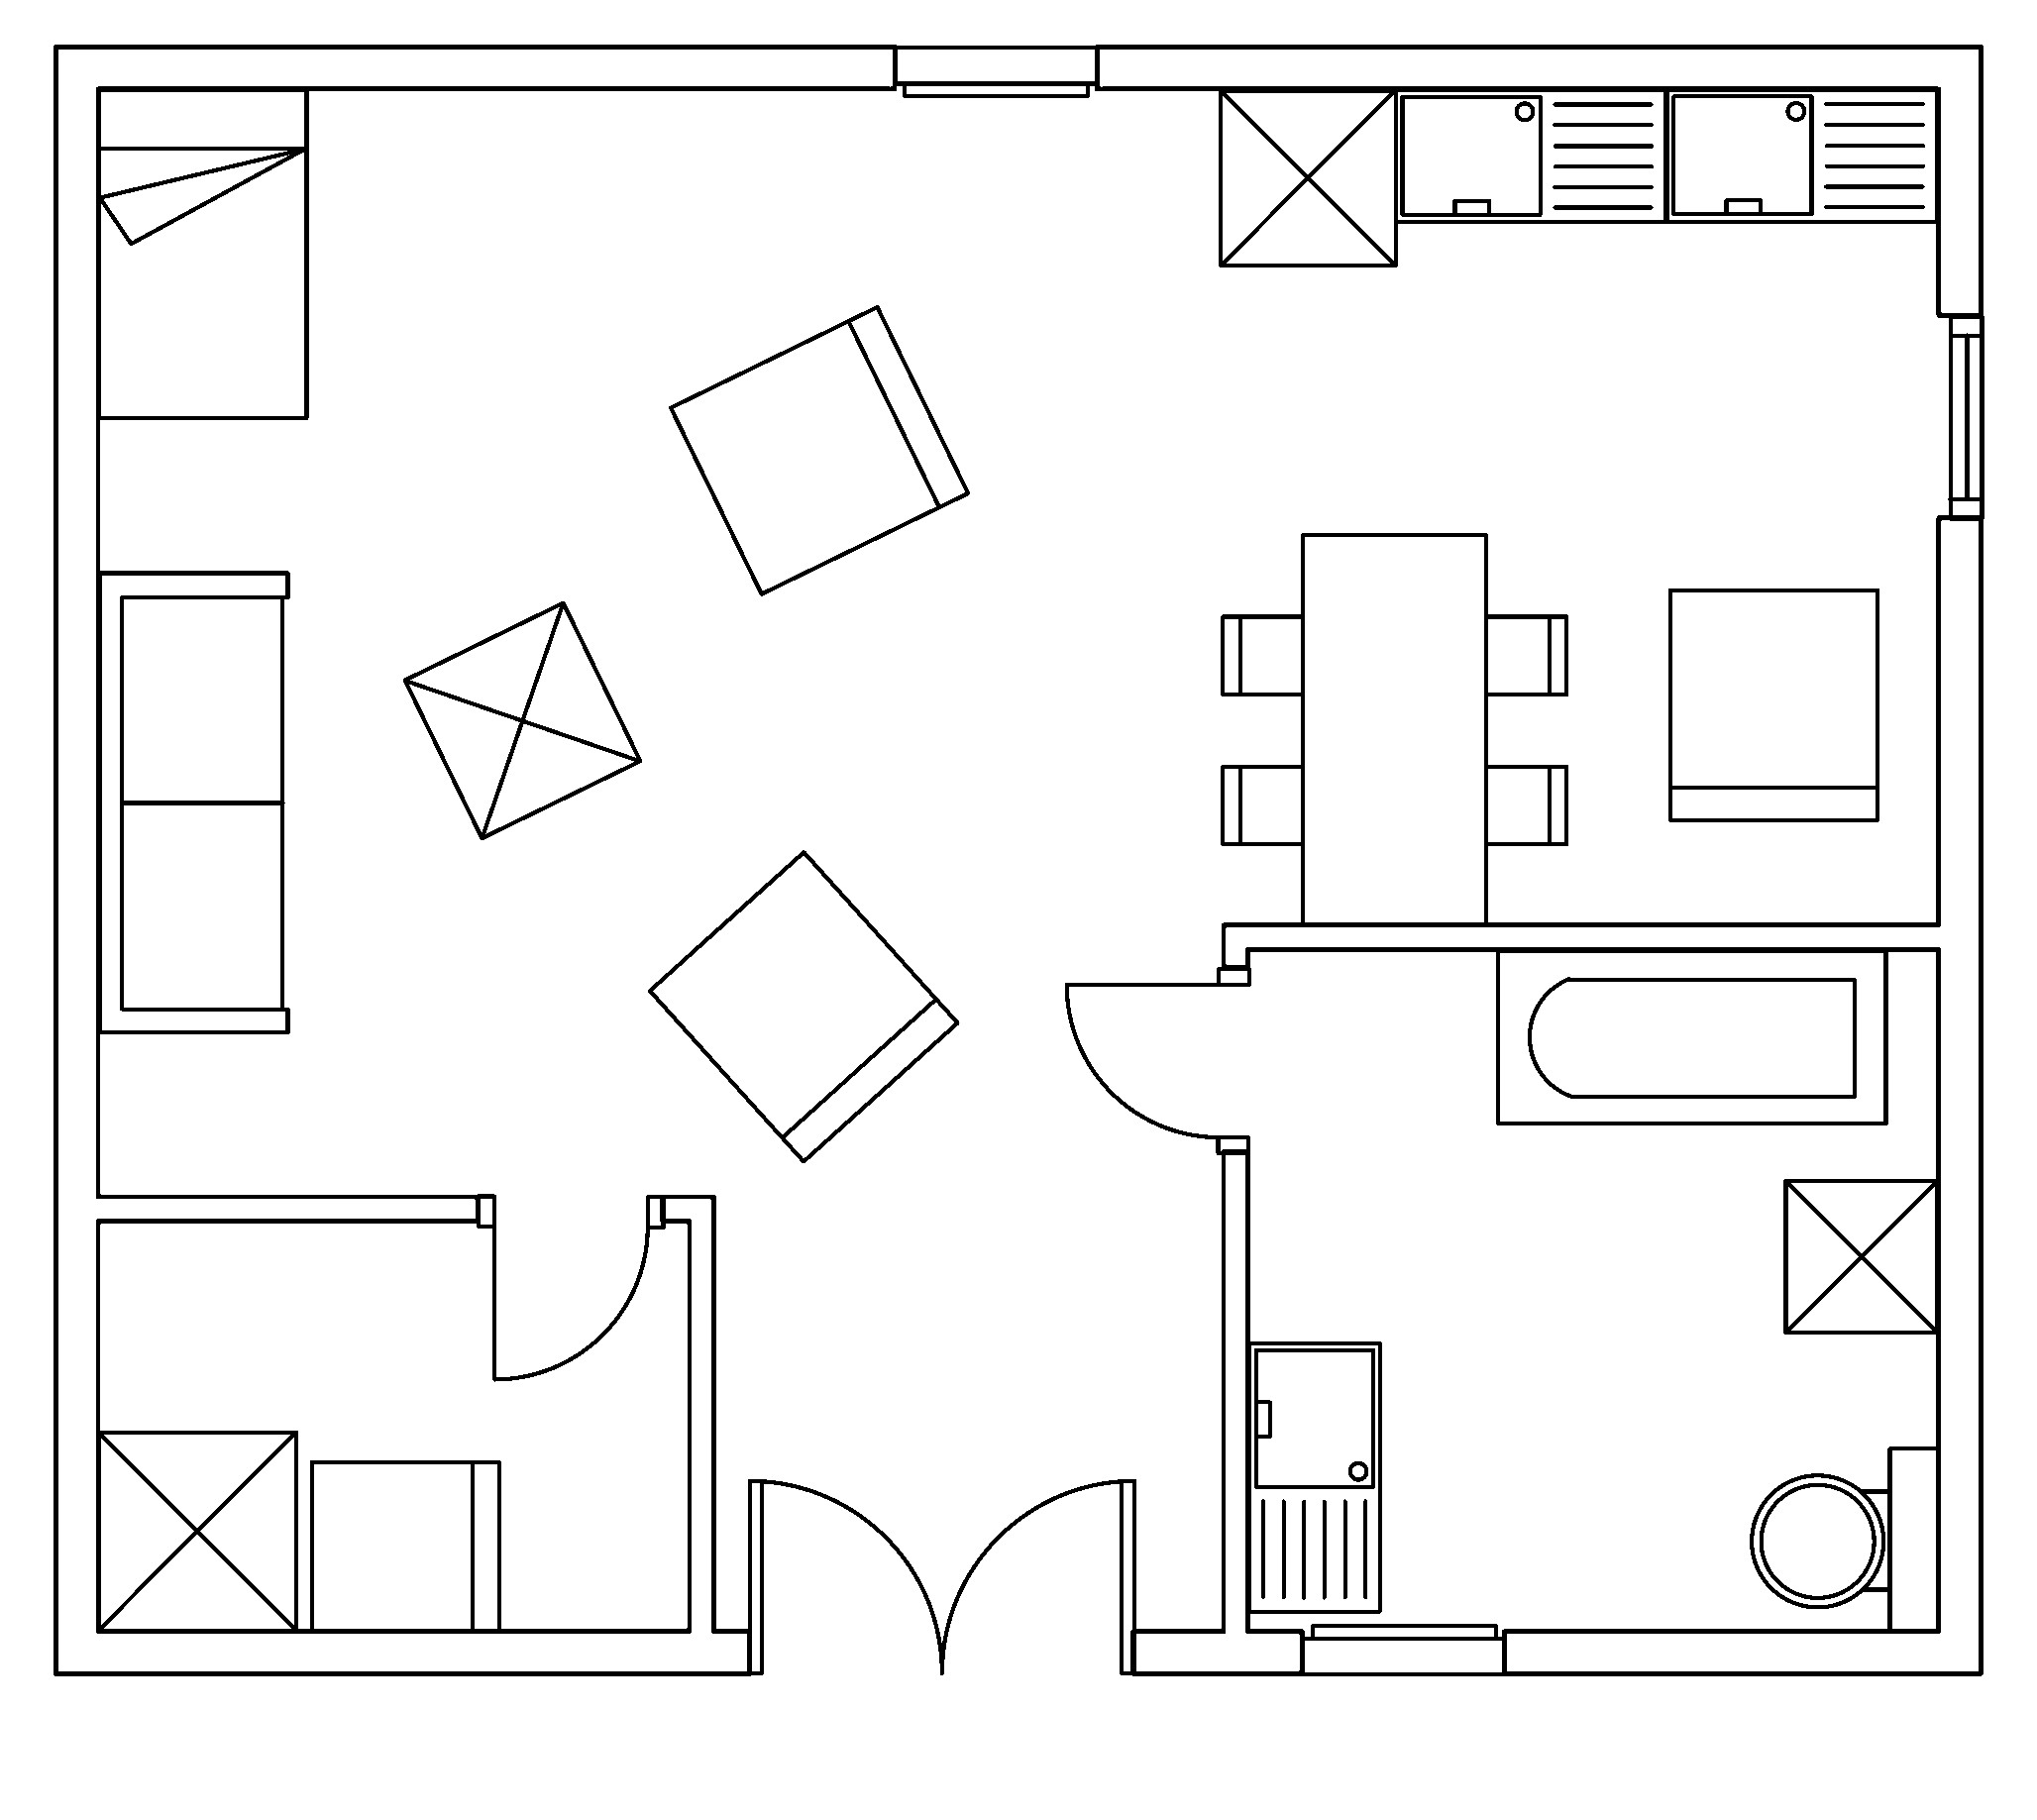bed: (95, 86, 309, 420)
coffee_table: (402, 599, 643, 841), (95, 1428, 299, 1632), (1217, 86, 1398, 267), (1781, 1177, 1940, 1335)
dining_table: (1219, 531, 1568, 926)
large_sink: (1749, 1444, 1940, 1632)
large_sofa: (95, 569, 290, 1035)
sink: (1663, 86, 1940, 223), (1245, 1339, 1382, 1614), (1393, 86, 1668, 223)
small_sofa: (646, 849, 961, 1163), (667, 304, 969, 597), (1666, 587, 1879, 822), (307, 1458, 500, 1632)
tub: (1494, 947, 1888, 1126)
